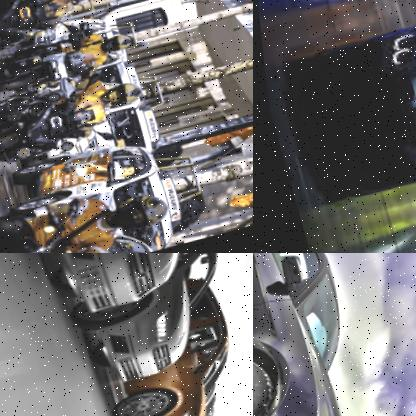bike: (0, 72, 96, 181), (0, 36, 83, 98), (0, 196, 86, 253)
car: (289, 0, 416, 205), (253, 253, 394, 416), (76, 281, 240, 395), (10, 253, 253, 323), (0, 125, 154, 221), (100, 359, 246, 416)
